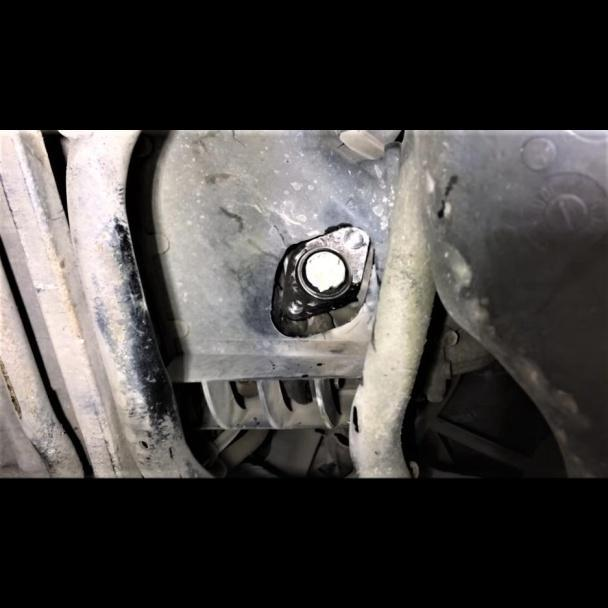hole: (343, 227, 366, 252), (286, 298, 304, 316)
